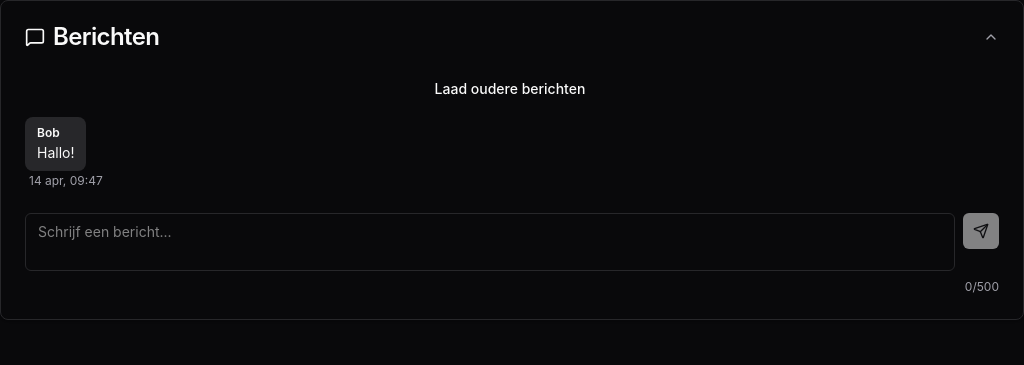
Test case: MessageBoard › loads older messages when button is clicked and prepends them
Step 1. Click the button "Laad oudere berichten" → (510, 89), box x1=423 y1=73 x2=597 y2=105
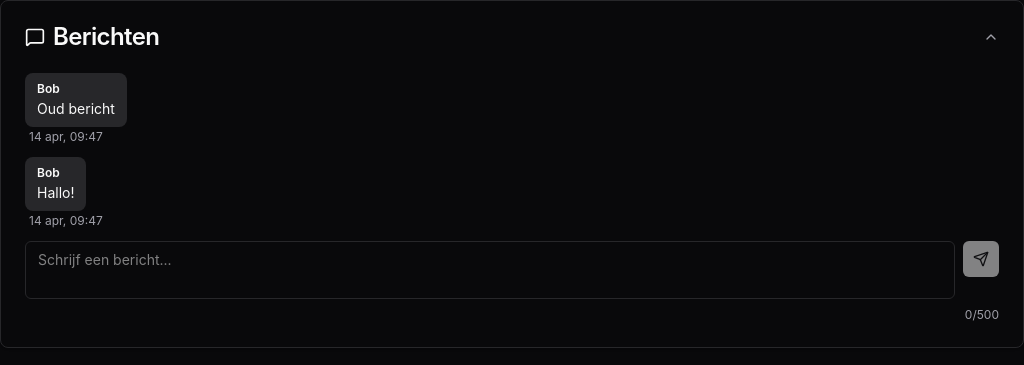
Expected: the text "Hallo!" is shown, x1=37 y1=183 x2=74 y2=203
Expected: the text "Oud bericht" is shown, x1=37 y1=99 x2=115 y2=119
Expected: the button "Laad oudere berichten" is gone
